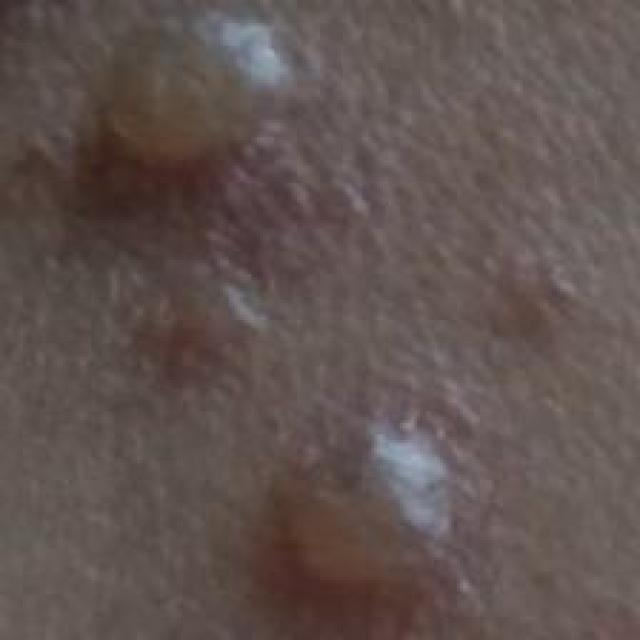others: (22, 0, 514, 611)
